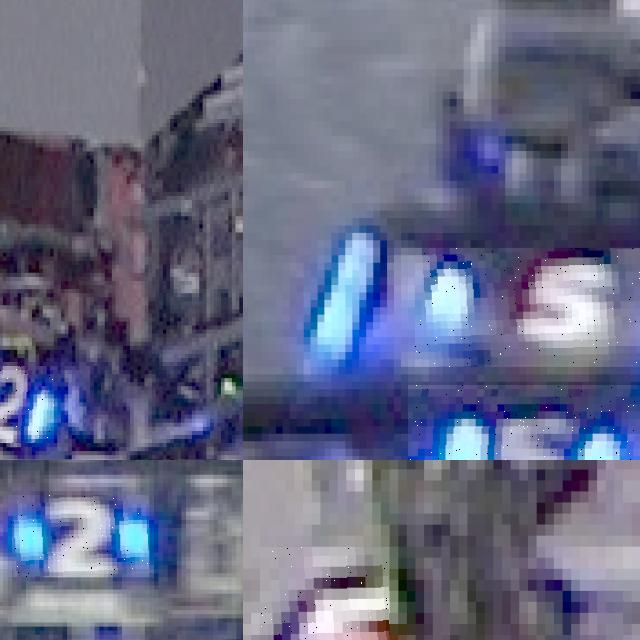B2: (8, 496, 149, 578), (0, 366, 53, 443)
B5: (415, 248, 640, 367), (407, 385, 640, 460)
R4: (259, 546, 389, 640)
